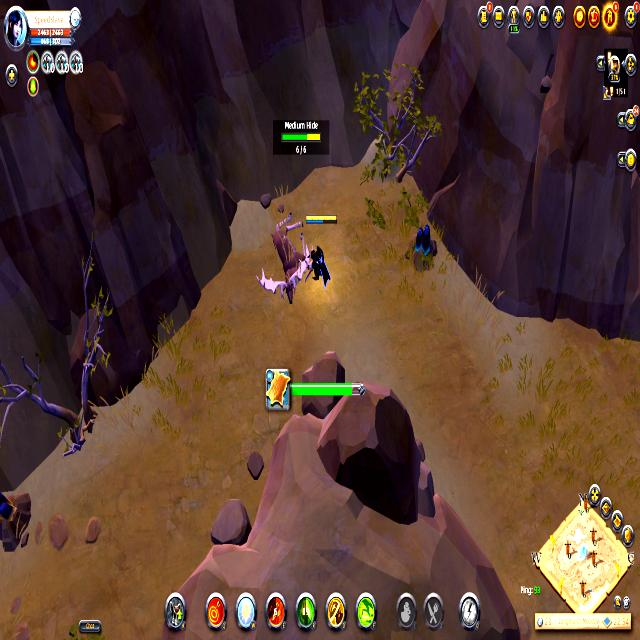mob: (256, 203, 311, 308)
player: (404, 211, 444, 281), (0, 477, 36, 550)
red: (303, 211, 336, 292)
